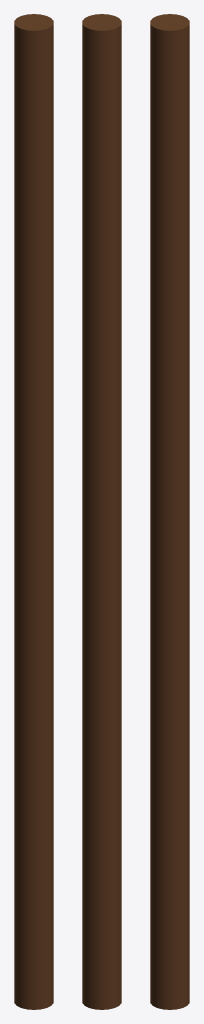
File: 승병무기.fbx
3 views of the same model, side by side, from view 1: azimuth 30°, elevation 25°; view 2: azimuth 210°, elevation 25°; view 3: azimuth 330°, elevation 25° (orthographic).
Visible parts, largest first — view 1: Cylinder001; view 2: Cylinder001; view 3: Cylinder001.
Boxes of the visible parts, x1=… form: Cylinder001: x1=14, y1=14, x2=53, y2=1009; Cylinder001: x1=82, y1=14, x2=121, y2=1009; Cylinder001: x1=150, y1=14, x2=189, y2=1009.
Bounding box in the file's own units: 2.49 × 67.45 × 2.45.
1 material, 1 textured.
